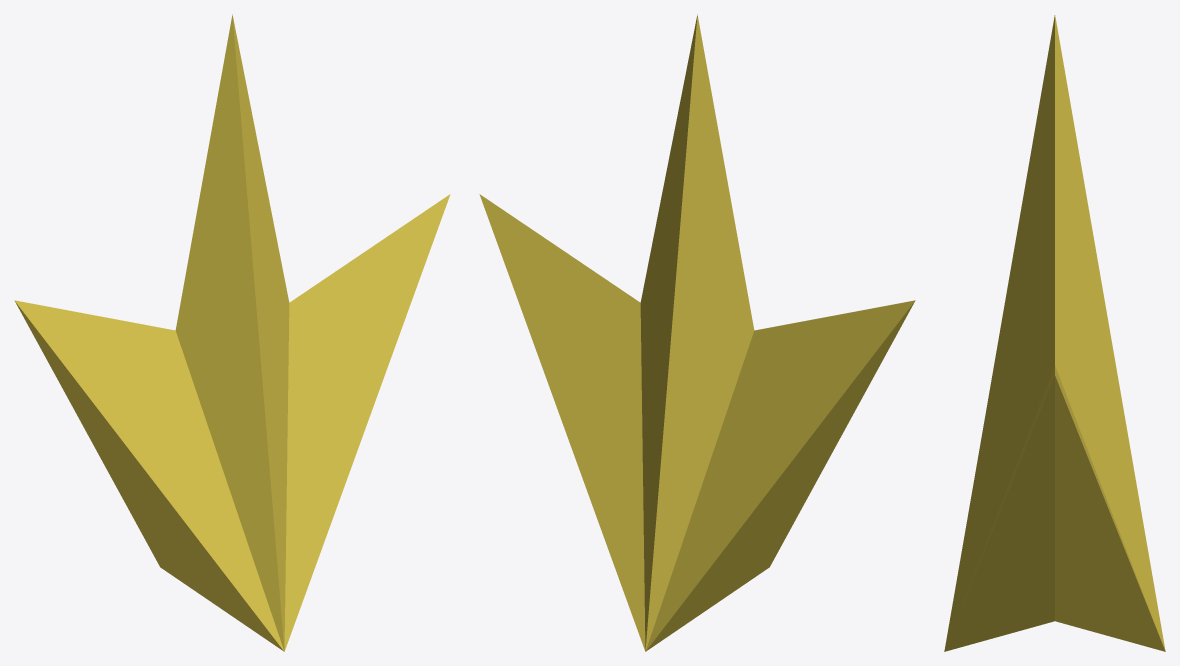
File: crystall.fbx
3 renders of one model, left to right at view 1: azimuth 30°, elevation 25°; view 2: azimuth 150°, elevation 25°; view 3: azimuth 270°, elevation 25°, orthographic. The views are drawn at different scales.
Parts seen in each view (by area): view 1: crystall; view 2: crystall; view 3: crystall.
Part boxes in pixels (<box>): crystall: <box>14,14,450,651</box>; crystall: <box>479,14,915,651</box>; crystall: <box>944,15,1165,651</box>.
Size of the model in its own units: 1.32 by 1.74 by 0.5461.
